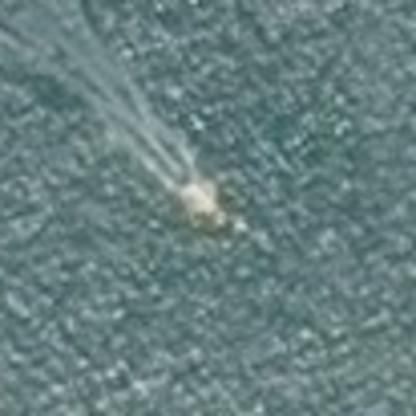ship: (158, 171, 239, 243)
